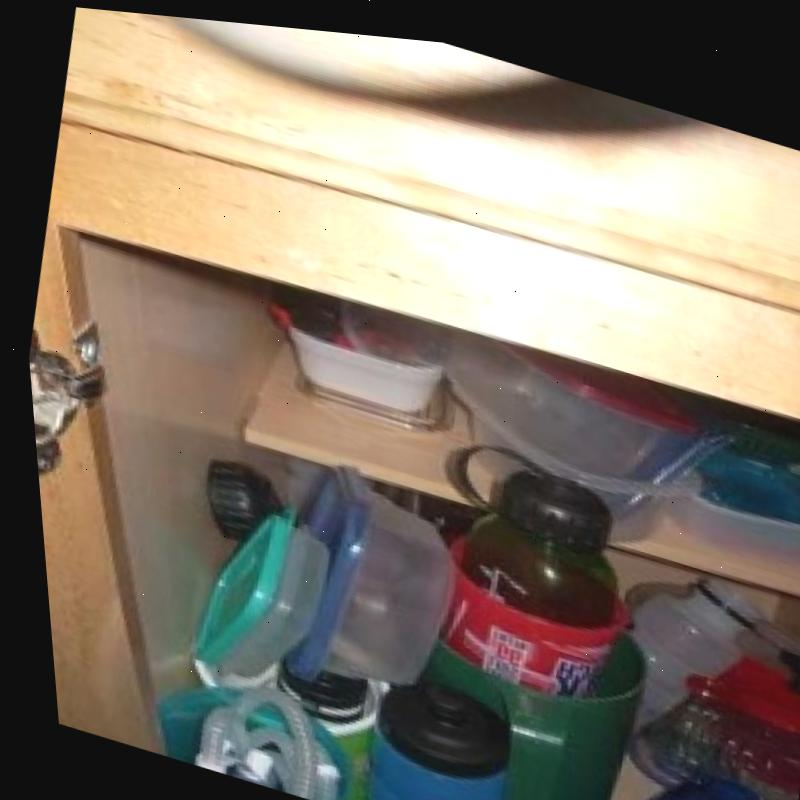botella: (585, 540, 771, 759), (616, 668, 800, 800)
